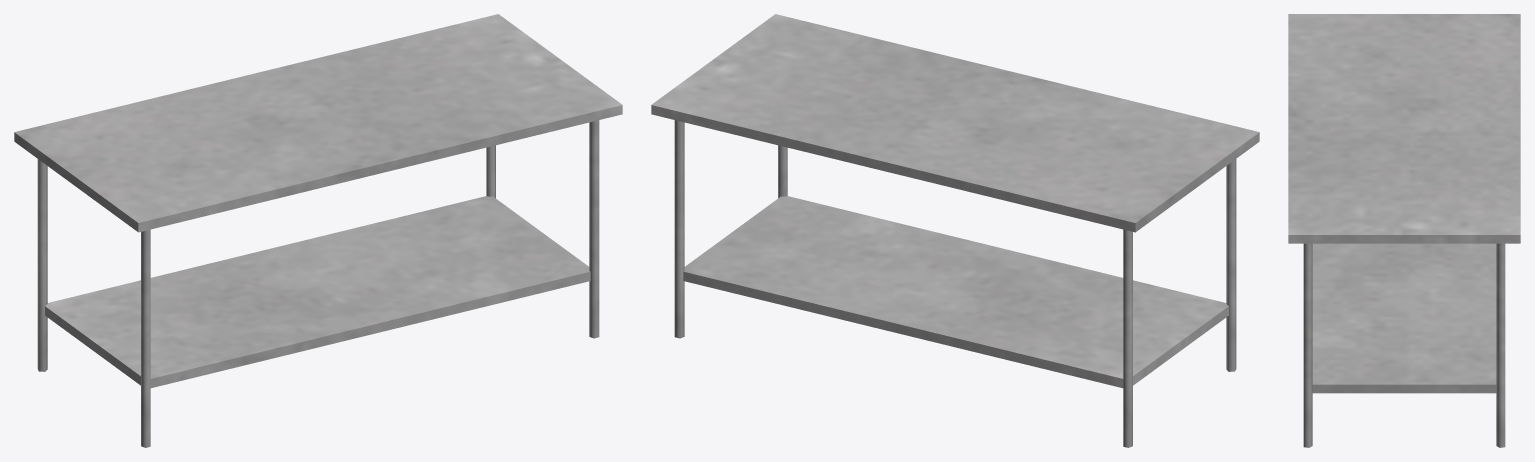
The model's file is Table.fbx.
3 views of the same model, side by side, from view 1: azimuth 30°, elevation 25°; view 2: azimuth 150°, elevation 25°; view 3: azimuth 270°, elevation 25° (orthographic). The views are drawn at different scales.
Parts seen in each view (by area): view 1: Table; view 2: Table; view 3: Table.
Boxes of the visible parts, x1,y1,x2,y2 form: Table: (14, 14, 622, 447); Table: (651, 14, 1259, 447); Table: (1288, 14, 1520, 447).
Bounding box in the file's own units: 274 × 127 × 122.
